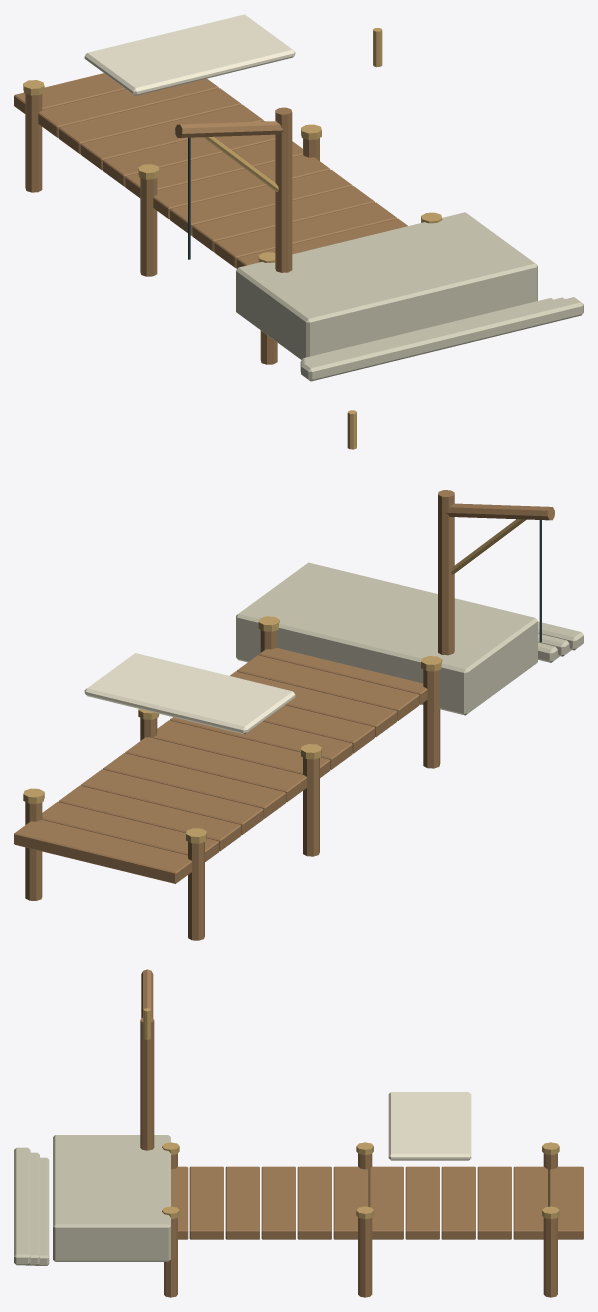
Rendered from level_24.glb.
3 renders of one model, top to bottom at view 1: azimuth 30°, elevation 25°; view 2: azimuth 150°, elevation 25°; view 3: azimuth 270°, elevation 25°, orthographic. The views are drawn at different scales.
Visible parts, largest first — view 1: dock — level 24; view 2: dock — level 24; view 3: dock — level 24.
Boxes of the visible parts, bbox=[...] form: dock — level 24: bbox=[14, 14, 583, 381]; dock — level 24: bbox=[14, 410, 583, 940]; dock — level 24: bbox=[14, 969, 583, 1297].
Bounding box in the file's own units: 5.14 × 4.82 × 9.66.
